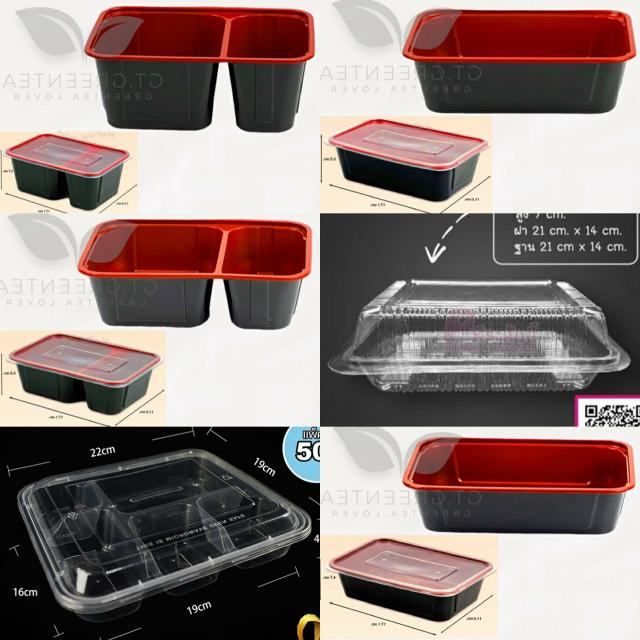Single-Use-Plastic: (18, 449, 311, 622), (329, 279, 630, 392), (85, 6, 314, 132), (78, 220, 311, 329), (403, 9, 635, 113), (403, 438, 635, 533), (327, 538, 495, 621), (325, 119, 489, 201), (9, 334, 163, 415), (5, 134, 130, 209)
